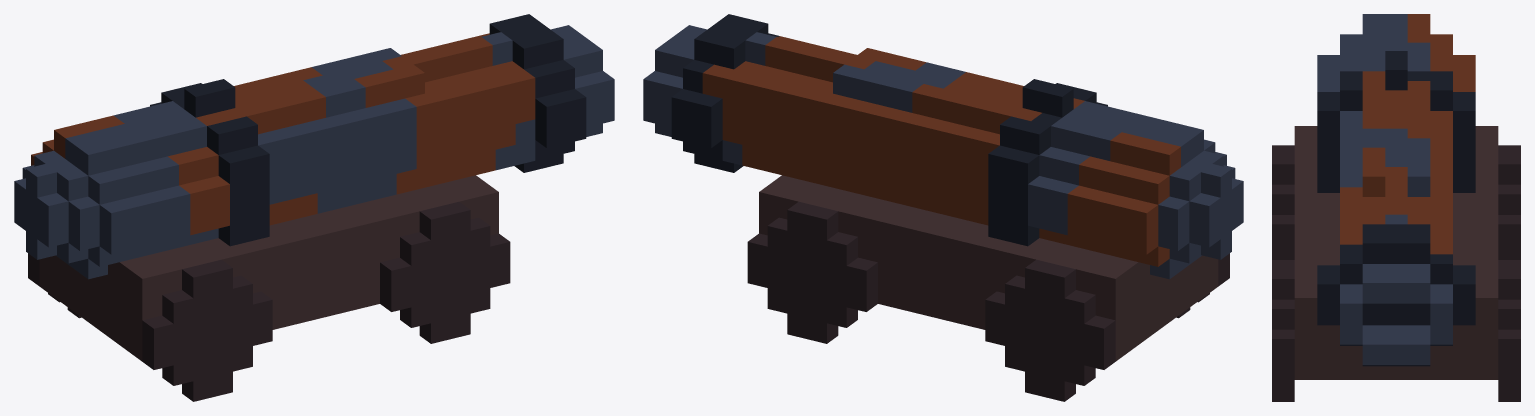
The model's file is cannon.glb.
The picture shows the model from 3 angles, left to right: view 1: azimuth 30°, elevation 25°; view 2: azimuth 150°, elevation 25°; view 3: azimuth 270°, elevation 25°; orthographic projection.
Visible parts, largest first — view 1: cannon; view 2: cannon; view 3: cannon.
Part boxes in pixels (left/top/right/bottom): cannon: left=14, top=14, right=614, bottom=401; cannon: left=643, top=14, right=1243, bottom=401; cannon: left=1272, top=14, right=1520, bottom=401.
Bounding box in the file's own units: 1.75 × 0.75 × 0.6875.
1 material, 1 textured.
